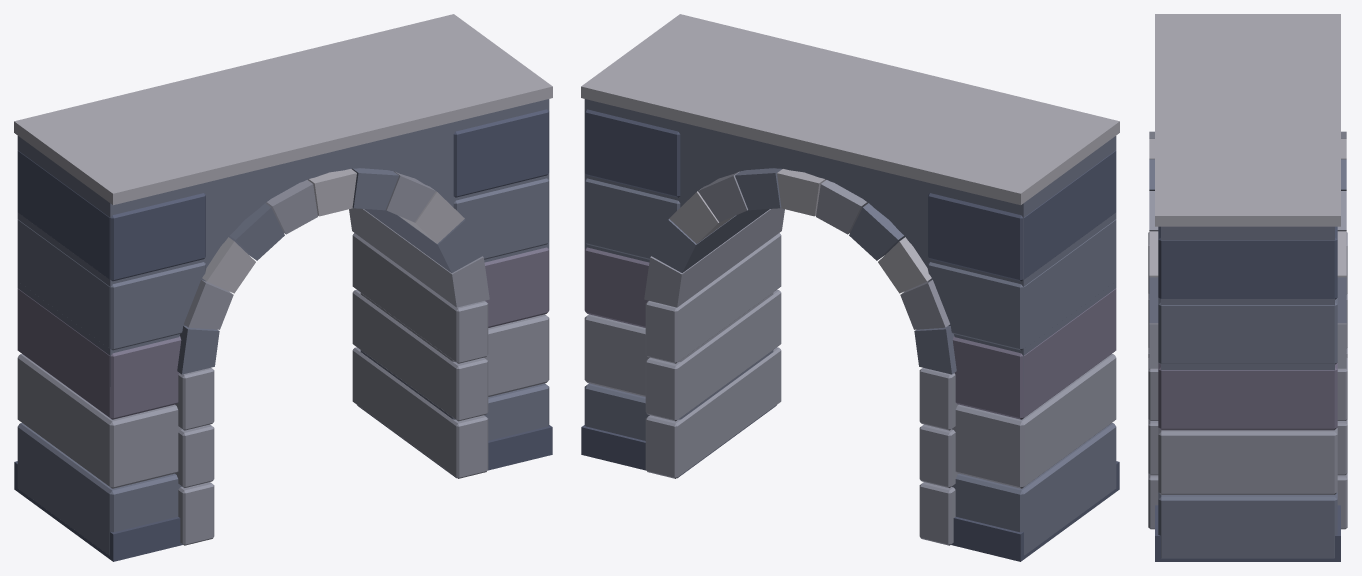
File: EG_Puerta_Marco_4m.fbx
3 views of the same model, side by side, from view 1: azimuth 30°, elevation 25°; view 2: azimuth 150°, elevation 25°; view 3: azimuth 270°, elevation 25° (orthographic). The views are drawn at different scales.
Parts seen in each view (by area): view 1: EG_Puerta_Marco_4m; view 2: EG_Puerta_Marco_4m; view 3: EG_Puerta_Marco_4m.
Part boxes in pixels (x1,y1,x2,y2): EG_Puerta_Marco_4m: (14, 14, 552, 561); EG_Puerta_Marco_4m: (581, 14, 1119, 561); EG_Puerta_Marco_4m: (1148, 14, 1347, 561).
Bounding box in the file's own units: 4 × 3.2 × 1.67.
1 material, 1 textured.
